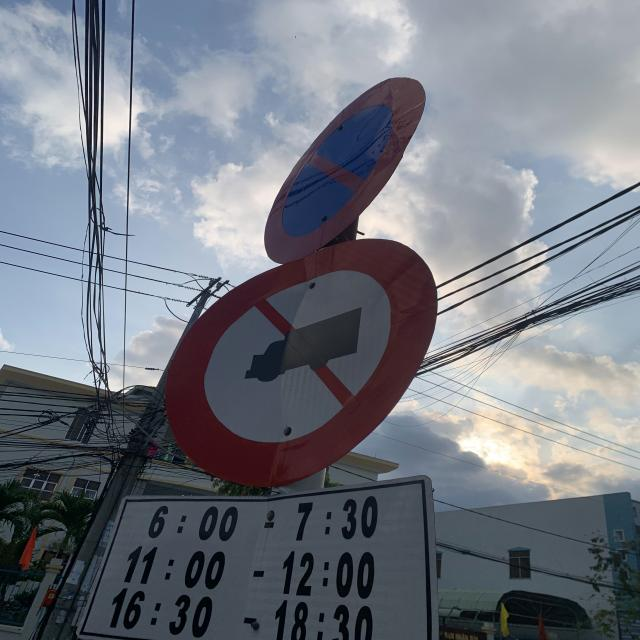Cam_Dau_Xe: (262, 75, 428, 267)
Cam_Xe_Tai: (164, 236, 436, 490)
